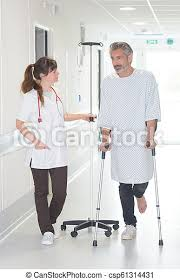crutches: (92, 41, 162, 246)
